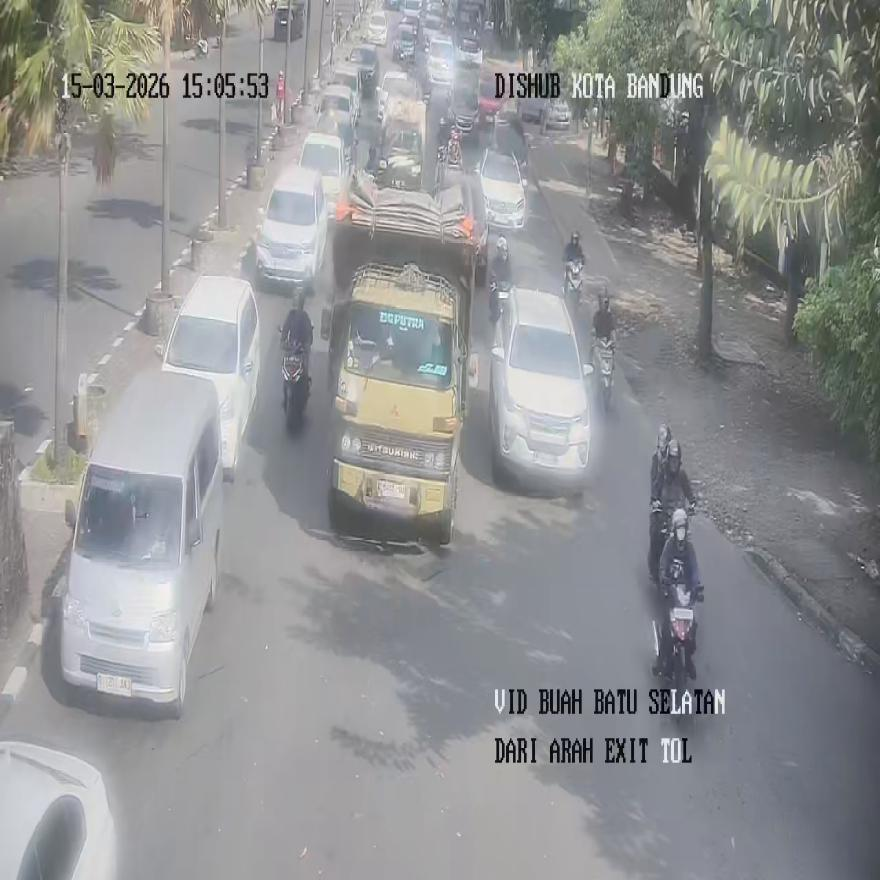Mobil: (59, 372, 223, 716), (156, 275, 260, 480), (490, 285, 594, 489), (256, 164, 327, 295)
Motor: (653, 581, 701, 716), (278, 328, 311, 428), (591, 337, 615, 413), (647, 500, 666, 585), (488, 276, 512, 325), (564, 259, 583, 309)
Truk menengah: (322, 187, 477, 540)
